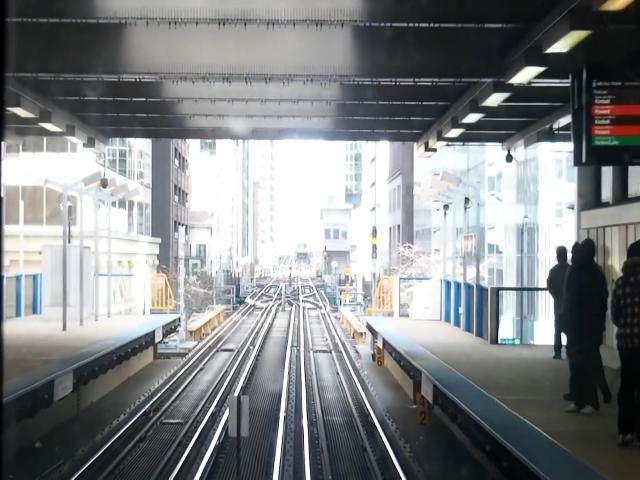signal light: (371, 226, 380, 262)
